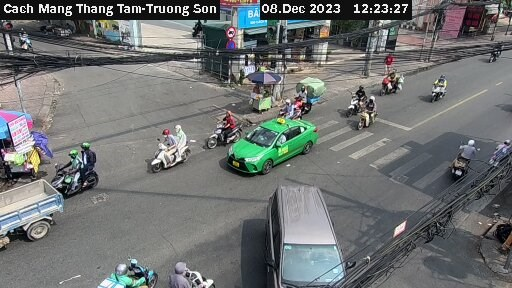car: (263, 179, 351, 288), (228, 119, 322, 173)
motorbike: (141, 124, 204, 183), (51, 148, 110, 201), (105, 252, 169, 288), (166, 258, 221, 288), (291, 78, 327, 118), (428, 73, 469, 108), (444, 143, 482, 178), (382, 66, 414, 95), (358, 101, 385, 130), (339, 89, 370, 113), (484, 35, 509, 58)
truck: (1, 171, 63, 252)
